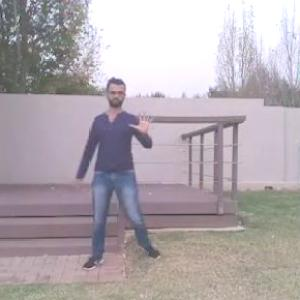follow_hand: (128, 104, 160, 136)
